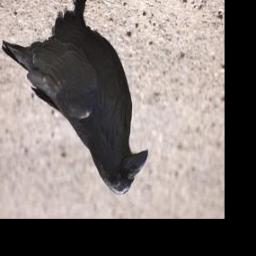Crow: (0, 0, 150, 197)
